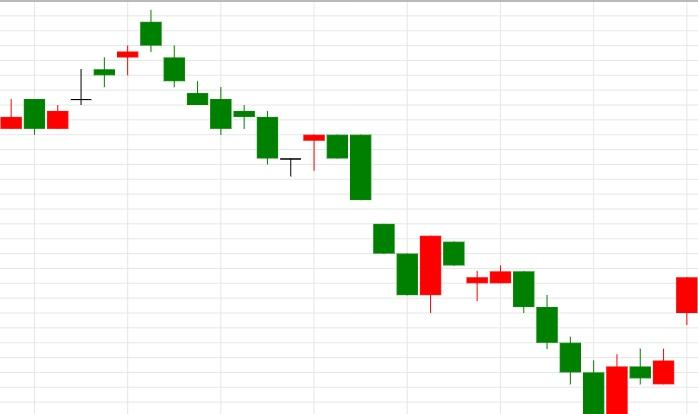bullish_engulfing_rise: (139, 9, 442, 312), (489, 264, 628, 414)
three_black_crows_fall: (0, 10, 209, 136), (466, 265, 582, 385)
